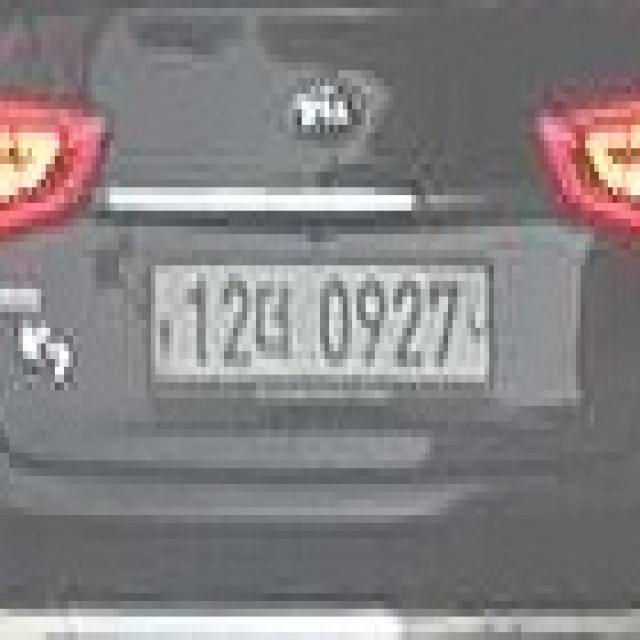0: (311, 273, 356, 390)
1: (178, 273, 215, 375)
2: (219, 266, 256, 382), (389, 266, 425, 382)
7: (425, 273, 462, 383)
9: (348, 273, 393, 390)
deo: (252, 273, 297, 375)
license_plate: (137, 250, 498, 398)
